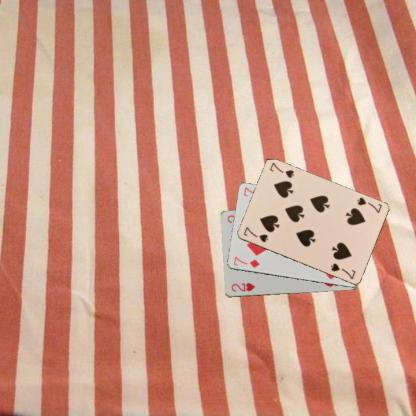2h: (229, 281, 256, 293)
7d: (231, 254, 261, 269)
7s: (241, 224, 269, 244), (354, 195, 383, 214)
